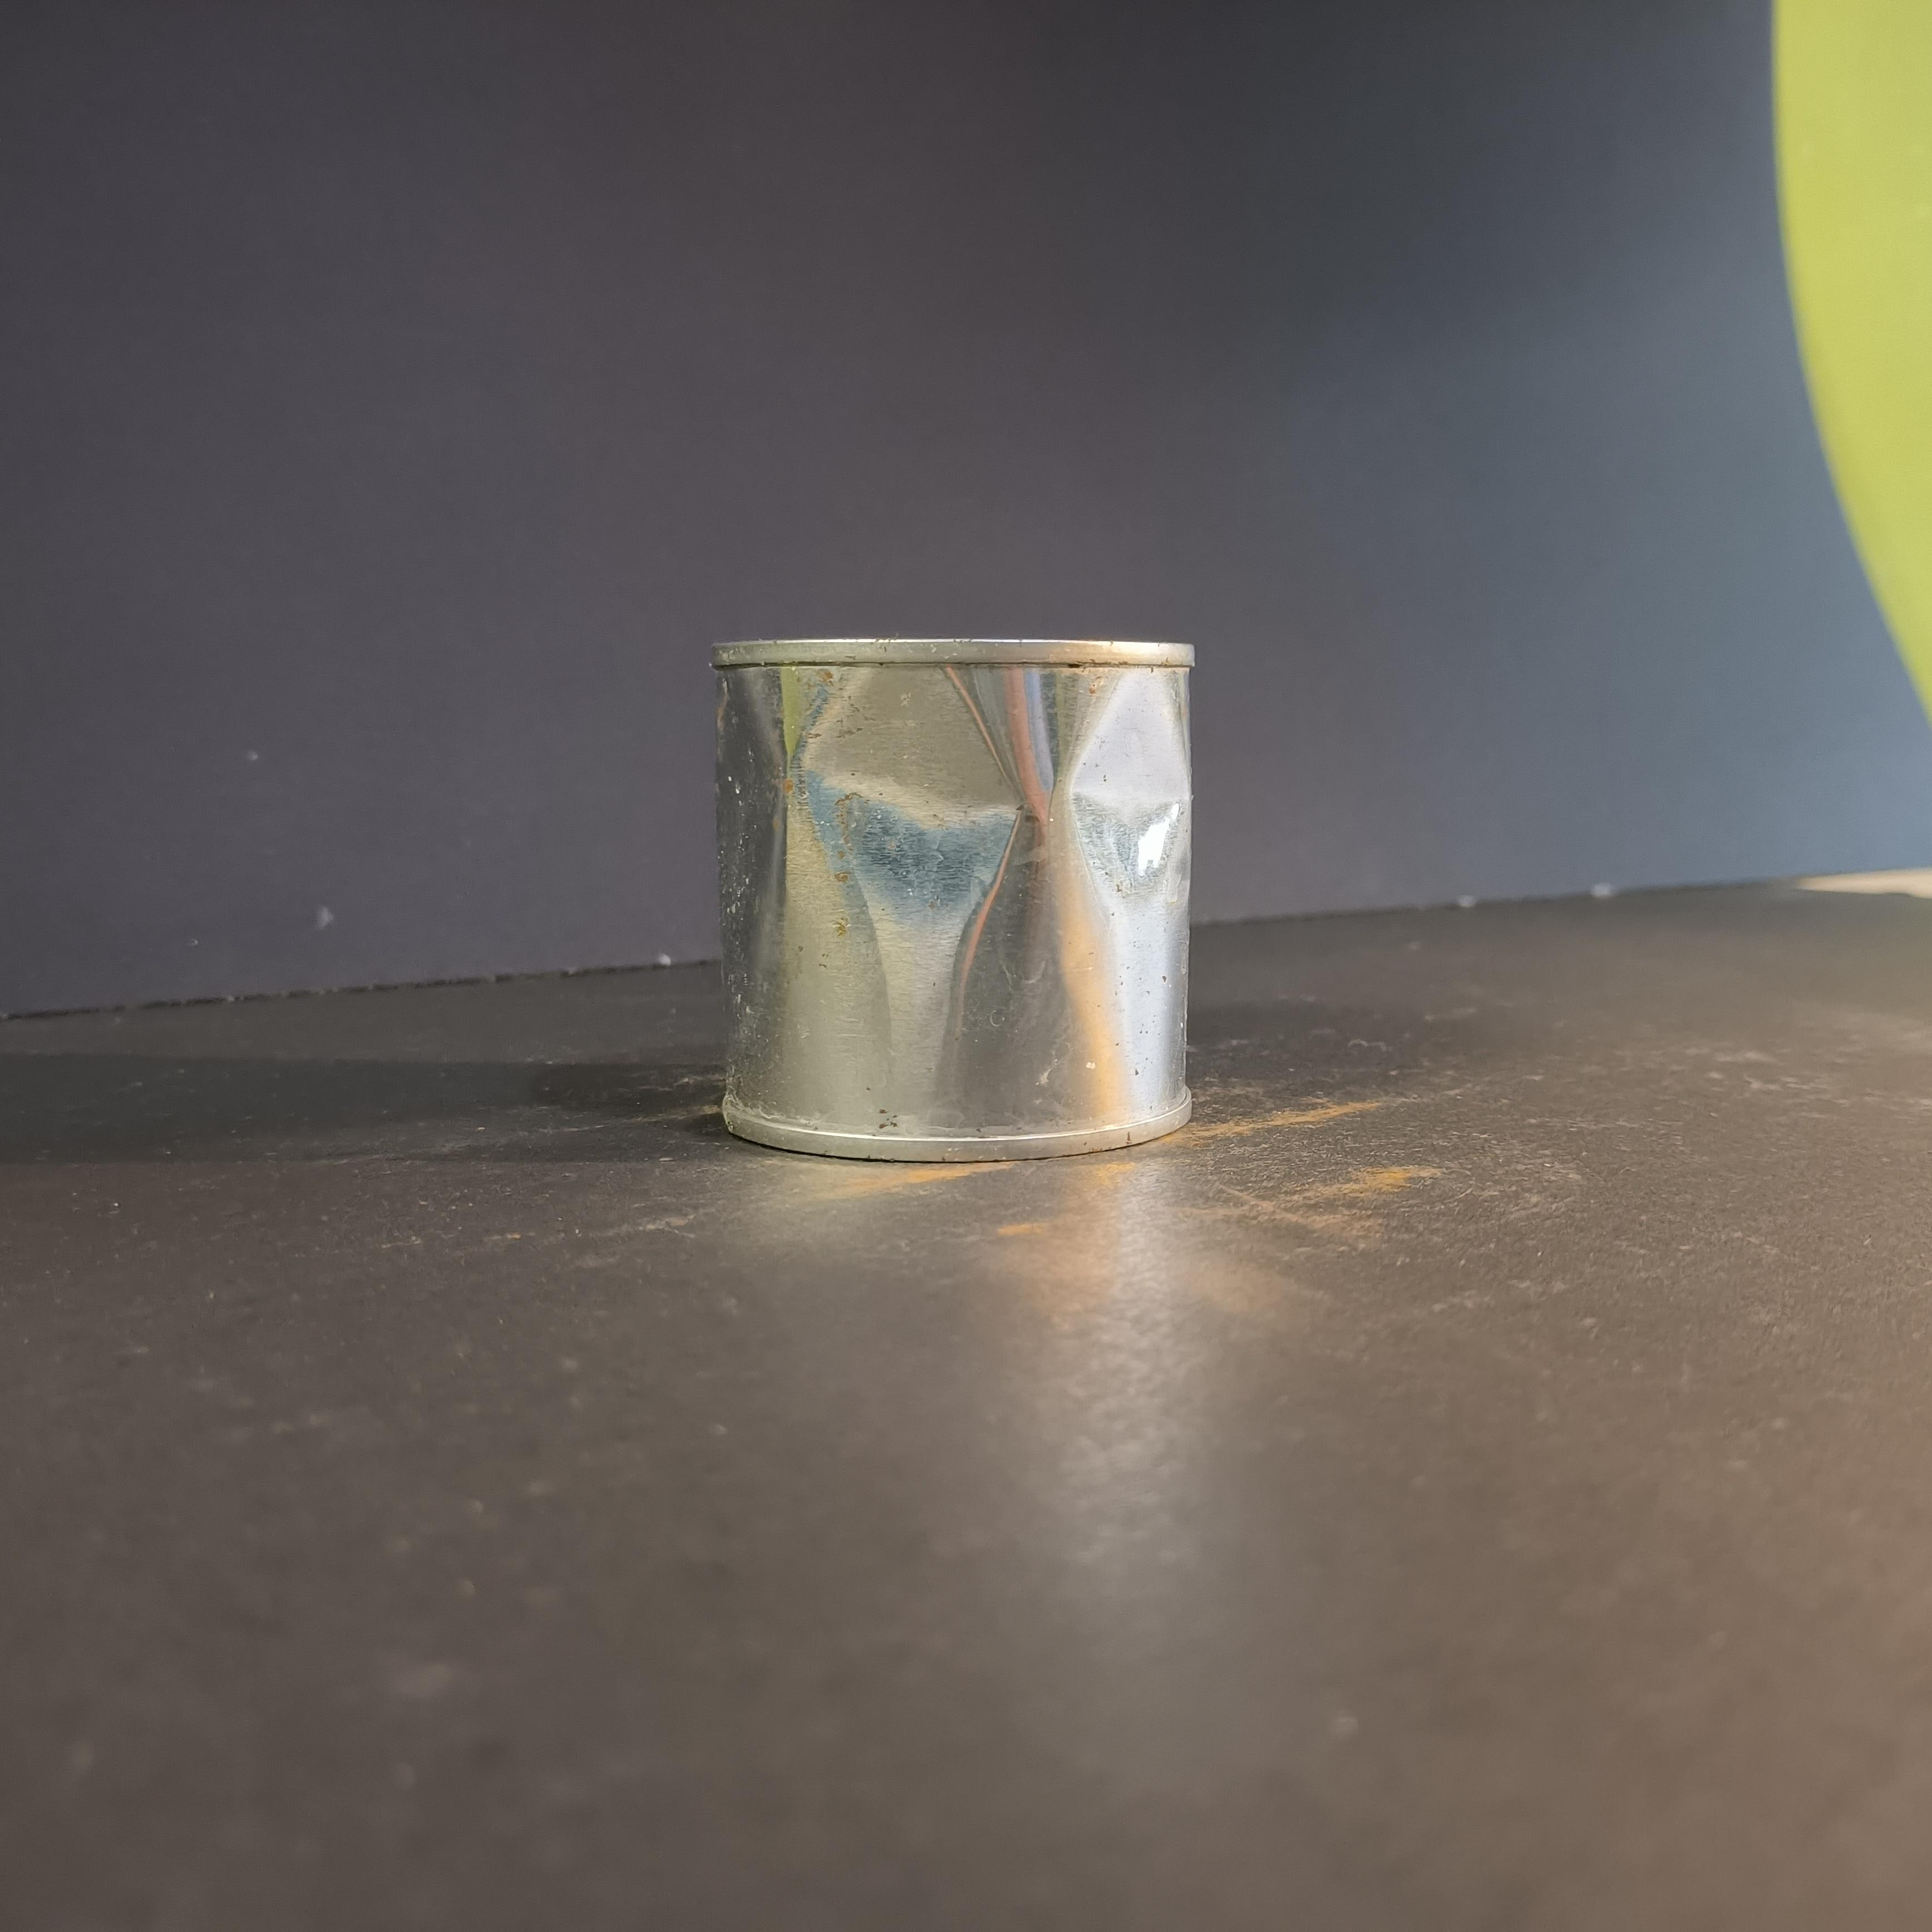Dented: (674, 612, 1228, 1168)
